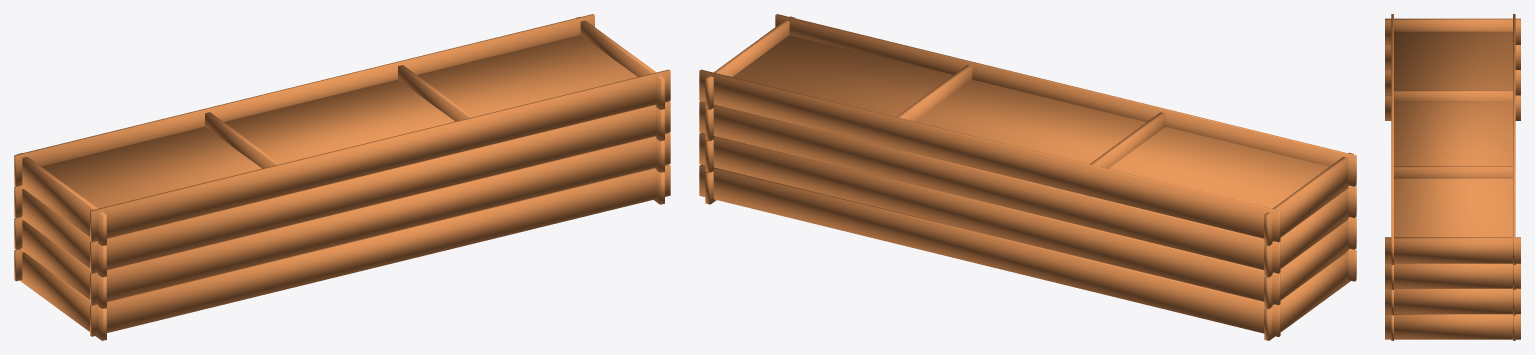
File: S_BacPotager.glb
3 views of the same model, side by side, from view 1: azimuth 30°, elevation 25°; view 2: azimuth 150°, elevation 25°; view 3: azimuth 270°, elevation 25° (orthographic). The views are drawn at different scales.
Visible parts, largest first — view 1: S_BacPotager_low, S_BacPotagerTerre_low; view 2: S_BacPotager_low, S_BacPotagerTerre_low; view 3: S_BacPotagerTerre_low, S_BacPotager_low.
Boxes of the visible parts, x1=… form: S_BacPotager_low: x1=14, y1=14, x2=670, y2=340; S_BacPotagerTerre_low: x1=41, y1=35, x2=637, y2=208; S_BacPotager_low: x1=699, y1=14, x2=1356, y2=340; S_BacPotagerTerre_low: x1=715, y1=35, x2=1329, y2=301; S_BacPotagerTerre_low: x1=1394, y1=31, x2=1512, y2=314; S_BacPotager_low: x1=1385, y1=14, x2=1520, y2=340.
Bounding box in the file's own units: 1.9 × 0.4013 × 0.482.
